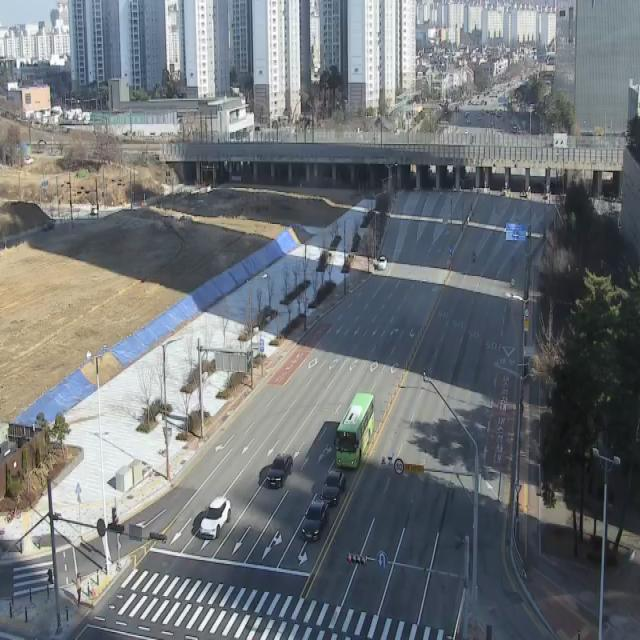Bus: (335, 393, 374, 469)
Car: (200, 496, 230, 539), (302, 501, 329, 541), (266, 454, 293, 488), (320, 470, 345, 505), (378, 254, 388, 270)
